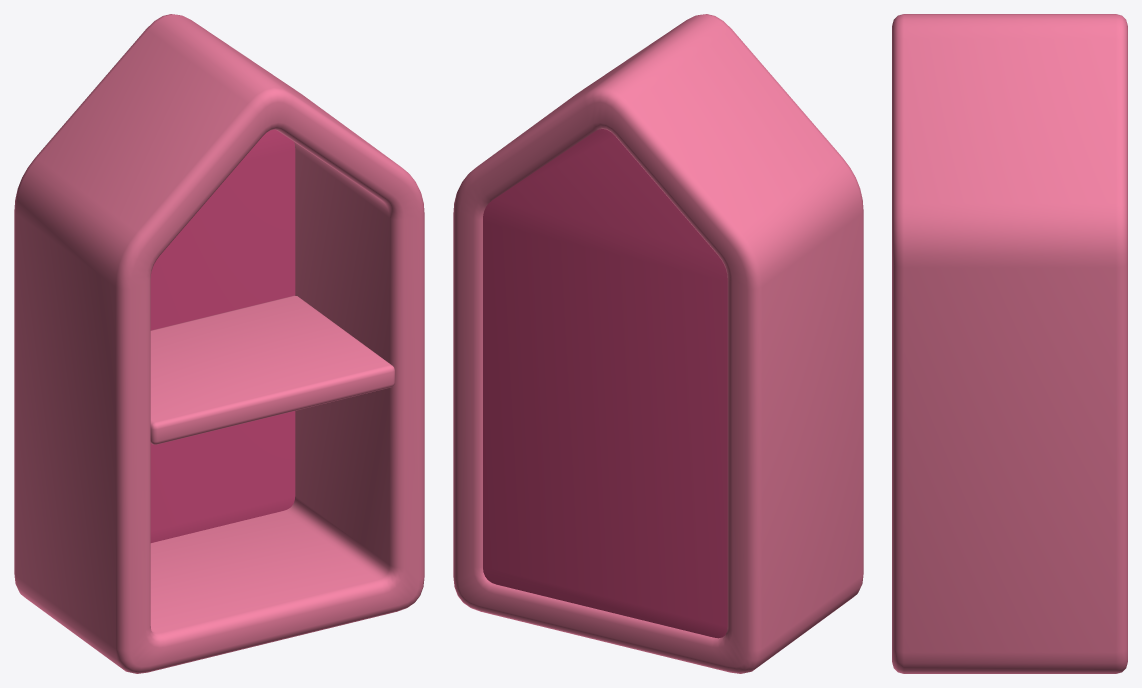
File: nicho_casinha_dupla_rosa.glb
The picture shows the model from 3 angles, left to right: view 1: azimuth 30°, elevation 25°; view 2: azimuth 150°, elevation 25°; view 3: azimuth 270°, elevation 25°; orthographic projection. The views are drawn at different scales.
Parts seen in each view (by area): view 1: nicho_casinha_dupla_rosa; view 2: nicho_casinha_dupla_rosa; view 3: nicho_casinha_dupla_rosa.
Part boxes in pixels (bbox=[...]): nicho_casinha_dupla_rosa: bbox=[14, 14, 424, 673]; nicho_casinha_dupla_rosa: bbox=[453, 14, 863, 673]; nicho_casinha_dupla_rosa: bbox=[892, 14, 1127, 673].
Bounding box in the file's own units: 0.32 × 0.5497 × 0.2.
1 material, 1 textured.
